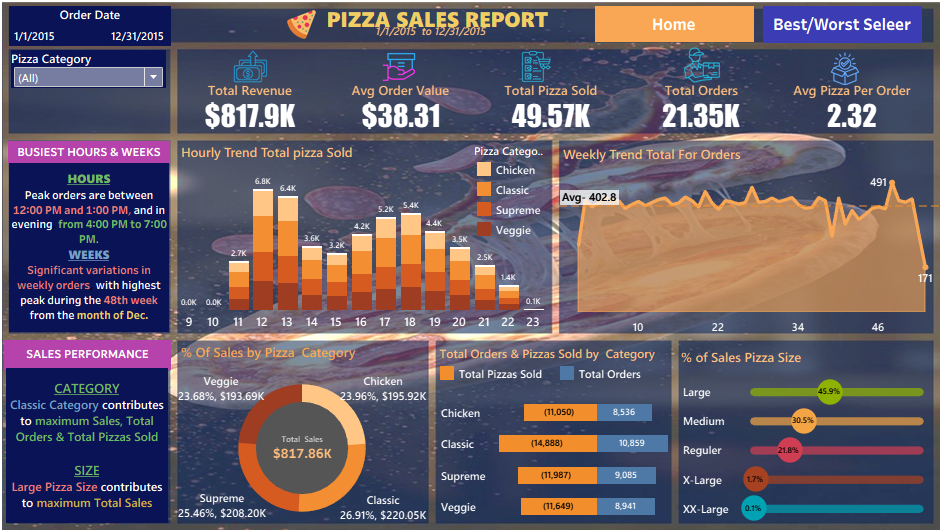

This screenshot's page, from the dashboard's own definition file:
{"tool":"tableau","page":{"name":"Home","canvas":[1157,552],"ordinal":2},"visuals":[{"type":"image","param":"Image/Bg Pizza Sales.jpg","box":[8,8,1141,536]},{"type":"text","box":[431,9,248,38]},{"type":"filter","title":"Hourly Trend Total pizza Sold","param":"[federated.1ejit3m1ncmd5h19fzgiw097b3zt].[none:order_date:qk]","box":[116,16,162,40]},{"type":"dashboard-object","box":[702,16,159,36]},{"type":"dashboard-object","box":[870,16,159,37]},{"type":"image","param":"Image/pizza-slice.png","box":[393,19,38,30]},{"type":"worksheet","title":"Date Range","mark":"Automatic","box":[448,34,180,14]},{"type":"image","param":"Image/delivery-man.png","box":[790.4,56,39.1,37]},{"type":"image","param":"Image/profit-growth.png","box":[337.6,57,40.1,38]},{"type":"image","param":"Image/shipping-box.png","box":[486.8,58,41.1,37]},{"type":"filter","title":"Hourly Trend Total pizza Sold","param":"[federated.1ejit3m1ncmd5h19fzgiw097b3zt].[none:pizza_category:nk]","box":[118,60,155,38]},{"type":"image","param":"Image/order-delivery.png","box":[627.1,60,37.1,32]},{"type":"image","param":"Image/order (1).png","box":[934.6,62,35.1,33]},{"type":"worksheet","title":"Sheet 1","mark":"Automatic","box":[282.5,90,752.3,51]},{"type":"worksheet","title":"Hourly Trend Total pizza Sold","mark":"Bar","rows":["Calculation_557601975897530375","Calculation_557601975897530375"],"cols":["order_time"],"box":[284.5,149,368.6,191]},{"type":"text","box":[115.2,151,162.3,23]},{"type":"worksheet","title":"Weekly Trend Total For Orders","mark":"Area","rows":["Calculation_557601975897116677","Calculation_557601975897116677"],"cols":["order_date"],"box":[666.2,151,384.7,193]},{"type":"legend","title":"Hourly Trend Total pizza Sold","param":"[federated.1ejit3m1ncmd5h19fzgiw097b3zt].[none:pizza_category:nk]","box":[581,153,72.1,99]},{"type":"text","box":[116.2,173,160.3,169]},{"type":"worksheet","title":"% Of Sales by Pizza  Category","mark":"Pie","rows":["Calculation_568579500551237634","Calculation_568579500551266308"],"box":[284.5,349,250.4,185]},{"type":"text","box":[111.2,350,167.3,30]},{"type":"text","box":[543.9,350,237.4,27]},{"type":"worksheet","title":"% of Sales Pizza Size","mark":"Line","rows":["pizza_size"],"box":[784.4,354,255.4,179]},{"type":"legend","title":"Total Orders & Pizza Sold by Category","param":"[federated.1ejit3m1ncmd5h19fzgiw097b3zt].[:Measure Names]","box":[543.9,373,255.4,27]},{"type":"text","box":[113.2,378,162.3,155]},{"type":"worksheet","title":"Total Orders & Pizza Sold by Category","mark":"Automatic","rows":["pizza_category"],"box":[541.9,407,241.4,125]}]}

Visuals, with their boxes on the page's 1157x552 design canvas (x1, y1, x2, y2). These are canvas units, not pixel positions in the 941x532 screenshot, which may show the page scaled, cropped or inside an application window:
image: box=[8, 8, 1149, 544]
text: box=[431, 9, 679, 47]
"Hourly Trend Total pizza Sold" filter: box=[116, 16, 278, 56]
dashboard-object: box=[702, 16, 861, 52]
dashboard-object: box=[870, 16, 1029, 53]
image: box=[393, 19, 431, 49]
"Date Range" worksheet: box=[448, 34, 628, 48]
image: box=[790, 56, 830, 93]
image: box=[338, 57, 378, 95]
image: box=[487, 58, 528, 95]
"Hourly Trend Total pizza Sold" filter: box=[118, 60, 273, 98]
image: box=[627, 60, 664, 92]
image: box=[935, 62, 970, 95]
"Sheet 1" worksheet: box=[282, 90, 1035, 141]
"Hourly Trend Total pizza Sold" worksheet (Bar marks): box=[284, 149, 653, 340]
text: box=[115, 151, 278, 174]
"Weekly Trend Total For Orders" worksheet (Area marks): box=[666, 151, 1051, 344]
"Hourly Trend Total pizza Sold" legend: box=[581, 153, 653, 252]
text: box=[116, 173, 276, 342]
"% Of Sales by Pizza  Category" worksheet (Pie marks): box=[284, 349, 535, 534]
text: box=[111, 350, 278, 380]
text: box=[544, 350, 781, 377]
"% of Sales Pizza Size" worksheet (Line marks): box=[784, 354, 1040, 533]
"Total Orders & Pizza Sold by Category" legend: box=[544, 373, 799, 400]
text: box=[113, 378, 276, 533]
"Total Orders & Pizza Sold by Category" worksheet: box=[542, 407, 783, 532]
